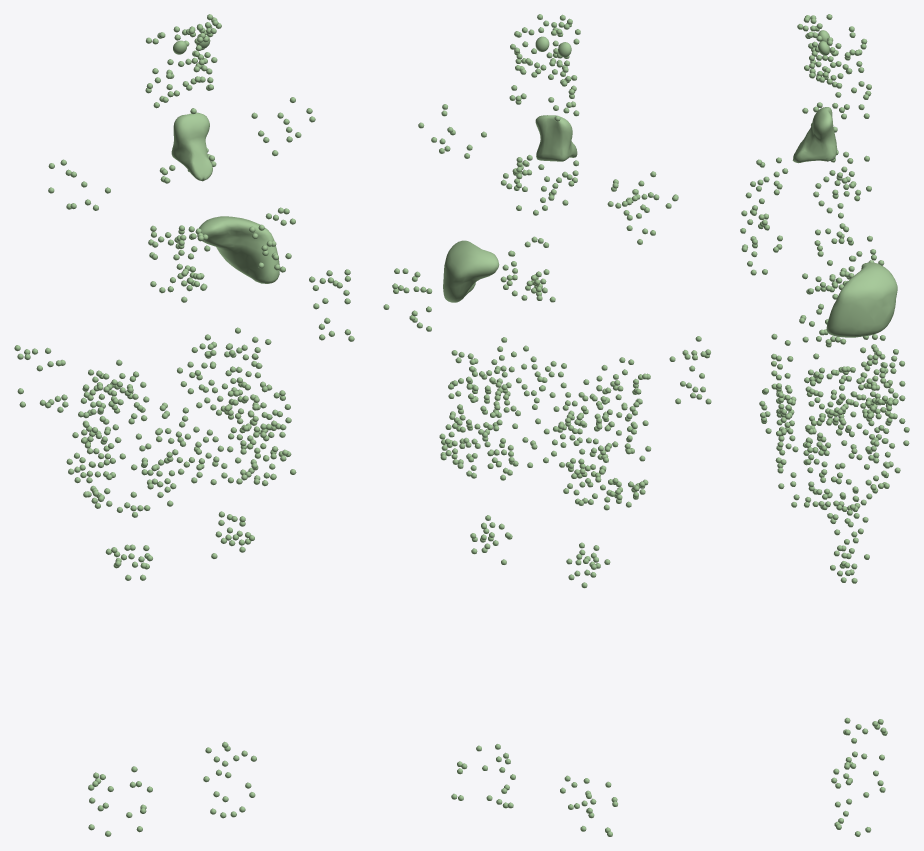
The model's file is pediatric_child_10y_male.lymphatic.LOD0.glb.
3 renders of one model, left to right at view 1: azimuth 30°, elevation 25°; view 2: azimuth 150°, elevation 25°; view 3: azimuth 270°, elevation 25°, orthographic. The views are drawn at different scales.
Visible parts, largest first — view 1: PEDIATRIC.CHILD_10Y.MALE.LYMPHATIC.LYMPHATIC_NODES_TRUNK, PEDIATRIC.CHILD_10Y.MALE.LYMPHATIC.SPLEEN, PEDIATRIC.CHILD_10Y.MALE.LYMPHATIC.THYMUS, PEDIATRIC.CHILD_10Y.MALE.LYMPHATIC.LYMPHATIC_NODES_ET, PEDIATRIC.CHILD_10Y.MALE.LYMPHATIC.LYMPHATIC_NODES_ARMS, PEDIATRIC.CHILD_10Y.MALE.LYMPHATIC.LYMPHATIC_NODES_LEGS, PEDIATRIC.CHILD_10Y.MALE.LYMPHATIC.LYMPHATIC_NODES_THORACIC; view 2: PEDIATRIC.CHILD_10Y.MALE.LYMPHATIC.LYMPHATIC_NODES_TRUNK, PEDIATRIC.CHILD_10Y.MALE.LYMPHATIC.SPLEEN, PEDIATRIC.CHILD_10Y.MALE.LYMPHATIC.THYMUS, PEDIATRIC.CHILD_10Y.MALE.LYMPHATIC.LYMPHATIC_NODES_ET, PEDIATRIC.CHILD_10Y.MALE.LYMPHATIC.LYMPHATIC_NODES_THORACIC, PEDIATRIC.CHILD_10Y.MALE.LYMPHATIC.LYMPHATIC_NODES_LEGS, PEDIATRIC.CHILD_10Y.MALE.LYMPHATIC.LYMPHATIC_NODES_ARMS; view 3: PEDIATRIC.CHILD_10Y.MALE.LYMPHATIC.LYMPHATIC_NODES_TRUNK, PEDIATRIC.CHILD_10Y.MALE.LYMPHATIC.SPLEEN, PEDIATRIC.CHILD_10Y.MALE.LYMPHATIC.THYMUS, PEDIATRIC.CHILD_10Y.MALE.LYMPHATIC.LYMPHATIC_NODES_ET, PEDIATRIC.CHILD_10Y.MALE.LYMPHATIC.LYMPHATIC_NODES_THORACIC, PEDIATRIC.CHILD_10Y.MALE.LYMPHATIC.LYMPHATIC_NODES_ARMS, PEDIATRIC.CHILD_10Y.MALE.LYMPHATIC.LYMPHATIC_NODES_LEGS, PEDIATRIC.CHILD_10Y.MALE.LYMPHATIC.LYMPHATIC_NODES_HEAD.
Part boxes in pixels (bbox=[...]): PEDIATRIC.CHILD_10Y.MALE.LYMPHATIC.LYMPHATIC_NODES_TRUNK: bbox=[48, 97, 315, 580]; PEDIATRIC.CHILD_10Y.MALE.LYMPHATIC.SPLEEN: bbox=[197, 216, 279, 283]; PEDIATRIC.CHILD_10Y.MALE.LYMPHATIC.THYMUS: bbox=[171, 112, 212, 181]; PEDIATRIC.CHILD_10Y.MALE.LYMPHATIC.LYMPHATIC_NODES_ET: bbox=[146, 14, 221, 84]; PEDIATRIC.CHILD_10Y.MALE.LYMPHATIC.LYMPHATIC_NODES_ARMS: bbox=[14, 269, 354, 412]; PEDIATRIC.CHILD_10Y.MALE.LYMPHATIC.LYMPHATIC_NODES_LEGS: bbox=[88, 741, 256, 836]; PEDIATRIC.CHILD_10Y.MALE.LYMPHATIC.LYMPHATIC_NODES_THORACIC: bbox=[148, 148, 216, 302]; PEDIATRIC.CHILD_10Y.MALE.LYMPHATIC.LYMPHATIC_NODES_TRUNK: bbox=[418, 104, 678, 588]; PEDIATRIC.CHILD_10Y.MALE.LYMPHATIC.SPLEEN: bbox=[443, 240, 499, 302]; PEDIATRIC.CHILD_10Y.MALE.LYMPHATIC.THYMUS: bbox=[535, 115, 577, 161]; PEDIATRIC.CHILD_10Y.MALE.LYMPHATIC.LYMPHATIC_NODES_ET: bbox=[510, 14, 580, 81]; PEDIATRIC.CHILD_10Y.MALE.LYMPHATIC.LYMPHATIC_NODES_THORACIC: bbox=[500, 155, 578, 302]; PEDIATRIC.CHILD_10Y.MALE.LYMPHATIC.LYMPHATIC_NODES_LEGS: bbox=[451, 744, 617, 836]; PEDIATRIC.CHILD_10Y.MALE.LYMPHATIC.LYMPHATIC_NODES_ARMS: bbox=[383, 268, 711, 404]; PEDIATRIC.CHILD_10Y.MALE.LYMPHATIC.LYMPHATIC_NODES_TRUNK: bbox=[740, 90, 909, 583]; PEDIATRIC.CHILD_10Y.MALE.LYMPHATIC.SPLEEN: bbox=[826, 262, 897, 337]; PEDIATRIC.CHILD_10Y.MALE.LYMPHATIC.THYMUS: bbox=[792, 107, 837, 163]; PEDIATRIC.CHILD_10Y.MALE.LYMPHATIC.LYMPHATIC_NODES_ET: bbox=[797, 14, 867, 82]; PEDIATRIC.CHILD_10Y.MALE.LYMPHATIC.LYMPHATIC_NODES_THORACIC: bbox=[820, 150, 884, 292]; PEDIATRIC.CHILD_10Y.MALE.LYMPHATIC.LYMPHATIC_NODES_ARMS: bbox=[802, 223, 853, 430]; PEDIATRIC.CHILD_10Y.MALE.LYMPHATIC.LYMPHATIC_NODES_LEGS: bbox=[831, 717, 887, 836]; PEDIATRIC.CHILD_10Y.MALE.LYMPHATIC.LYMPHATIC_NODES_HEAD: bbox=[814, 61, 871, 112].
Size of the model in its own units: 0.392 by 0.917 by 0.1787.
